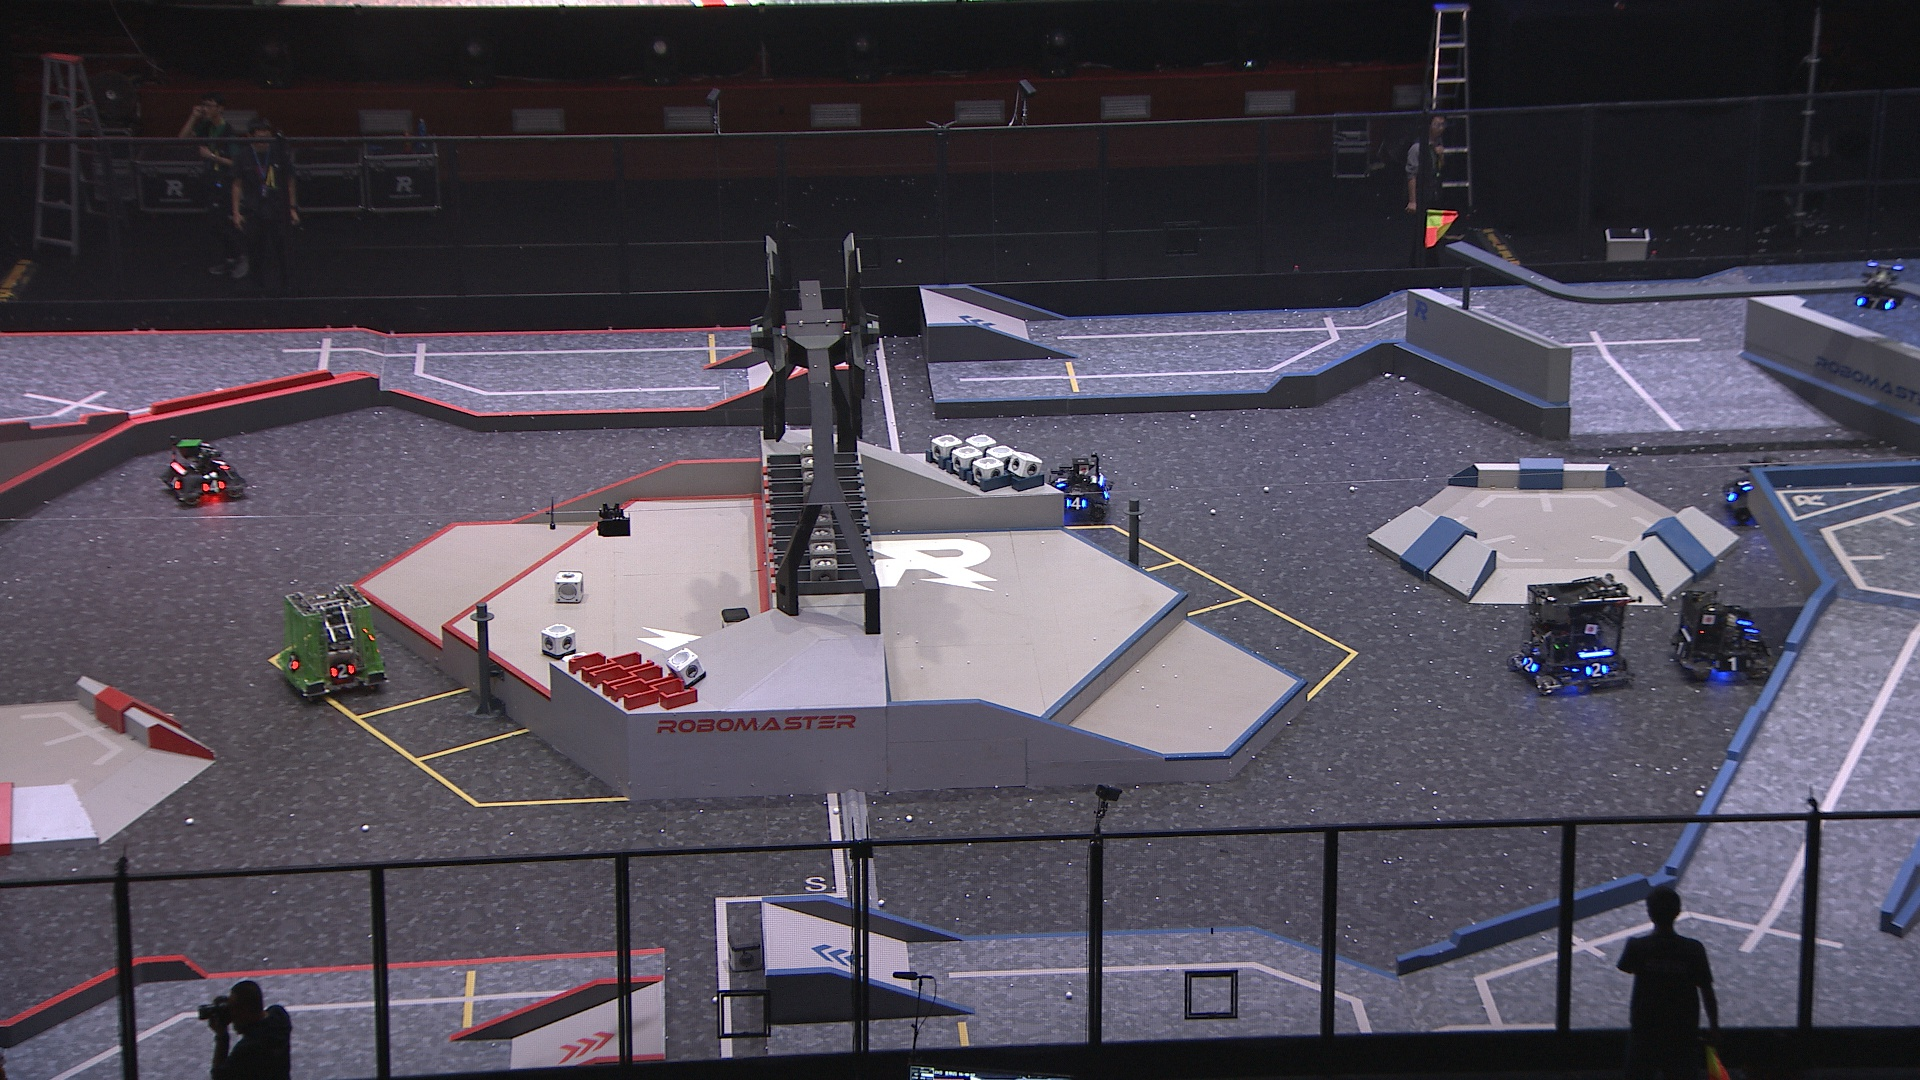armor: (1713, 655, 1755, 673), (1855, 295, 1894, 310), (330, 661, 356, 680), (1584, 661, 1610, 679), (1520, 654, 1542, 675), (202, 477, 225, 496), (1671, 640, 1689, 661), (211, 458, 233, 472), (1065, 496, 1088, 510), (285, 651, 301, 671), (167, 473, 183, 493), (1737, 479, 1755, 495), (1054, 476, 1069, 489)
car: (1506, 576, 1644, 695), (276, 583, 389, 699), (1669, 591, 1771, 684), (161, 436, 249, 508), (1722, 454, 1803, 524), (1040, 455, 1112, 522)
watcher: (1854, 258, 1908, 313)
